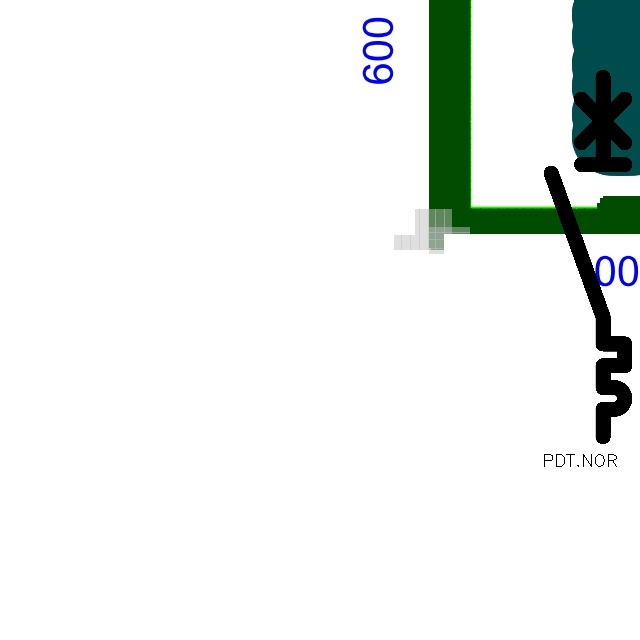interruptor_termomagnetico: (542, 68, 634, 446)
